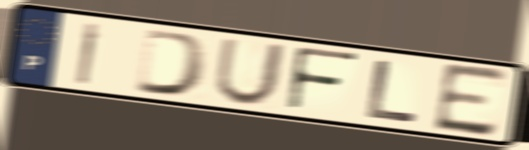D: (132, 26, 212, 100)
E: (430, 60, 511, 140)
F: (283, 44, 362, 115)
I: (73, 20, 105, 87)
L: (364, 57, 423, 125)
U: (211, 36, 289, 108)
